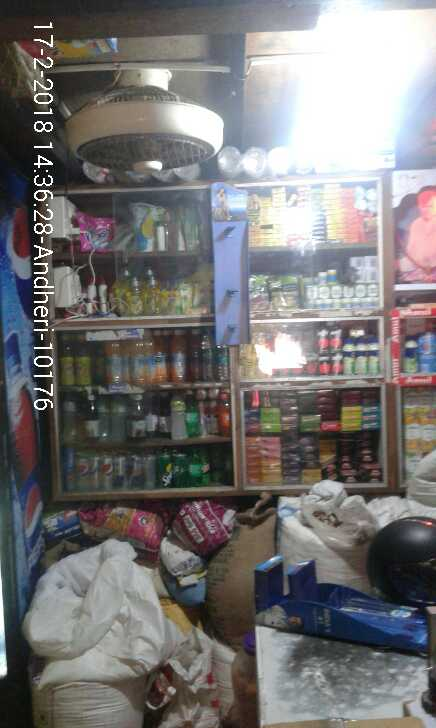reject: (200, 216, 262, 362)
